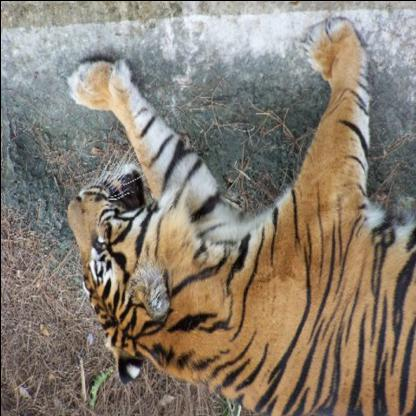tiger: (54, 155, 164, 369)
